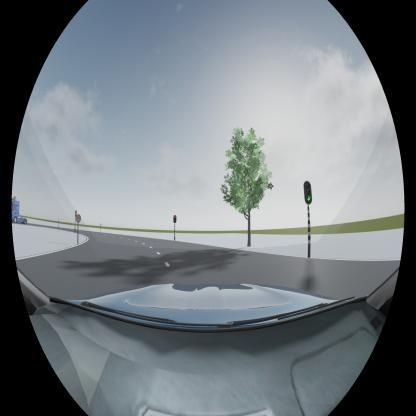Green Light: (304, 180, 312, 204)
Red Light: (173, 214, 177, 224)
